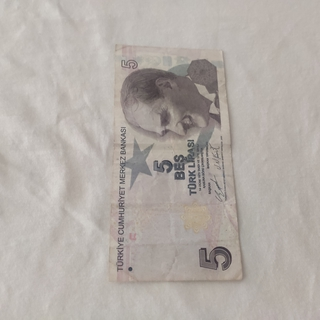5TLFront: (109, 42, 244, 282)
